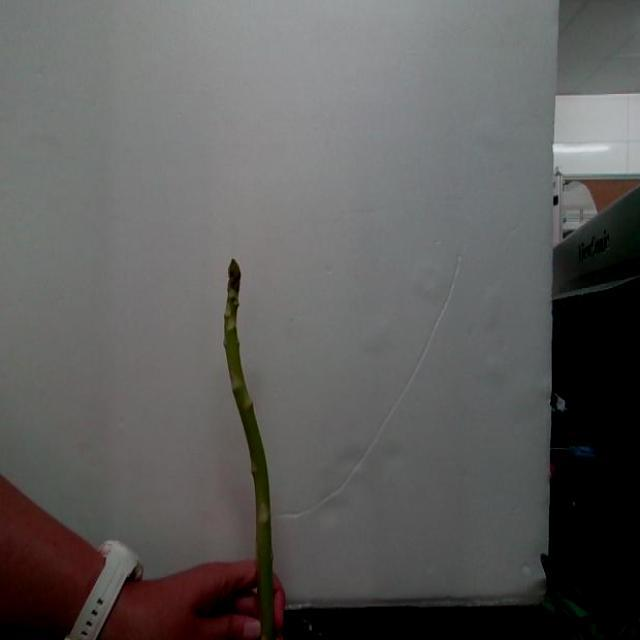aspargus: (224, 262, 284, 640)
